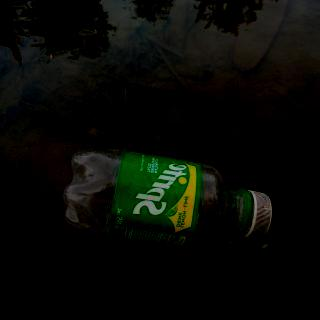bottle: (63, 146, 273, 255)
